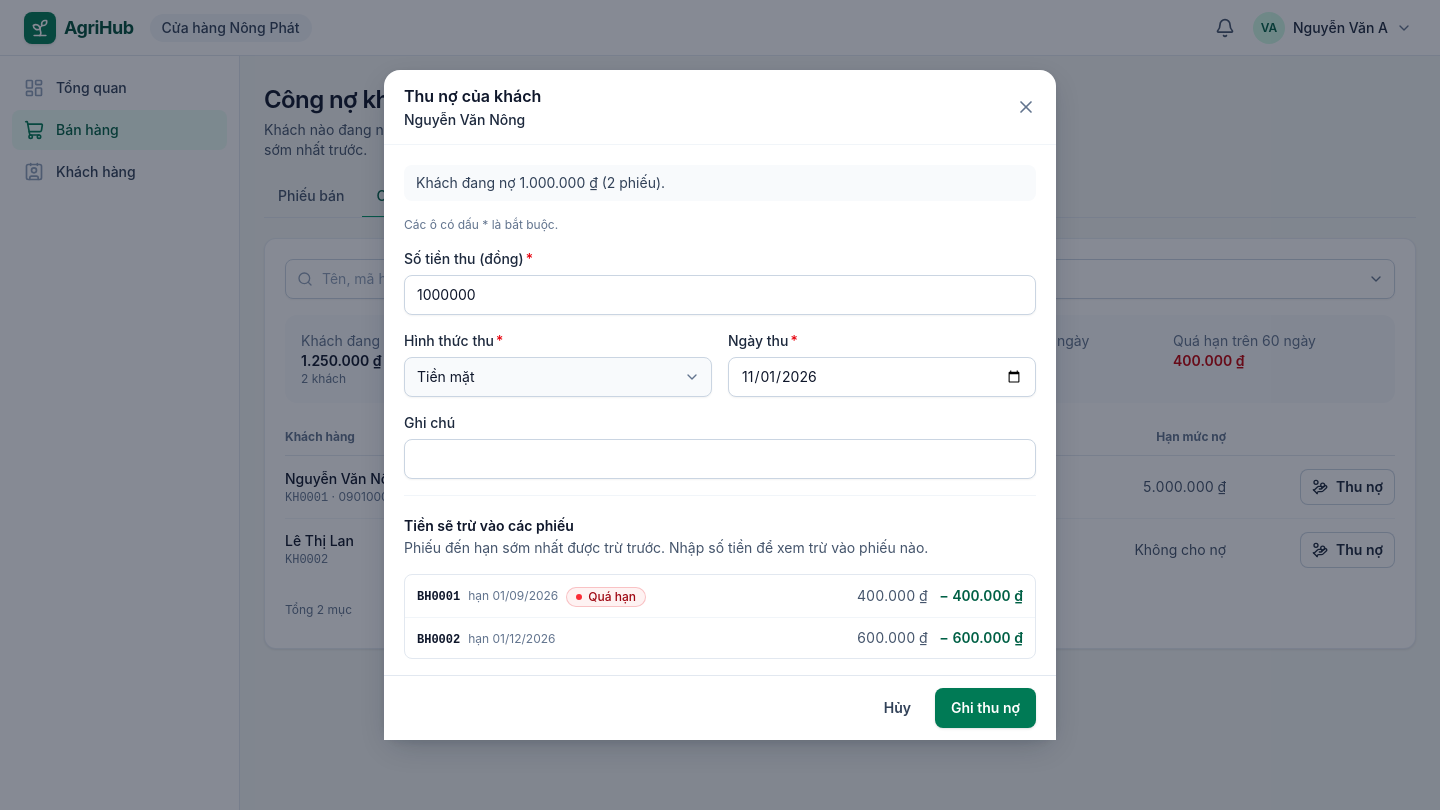
công nợ khách hàng: thu nợ › máy chủ từ chối số tiền (người khác vừa thu) thì báo ngay ở ô số tiền
Expected: the field labelled "Số tiền thu (đồng)" is shown, [404,275,1036,315]
Click the button "Ghi thu nợ" at (986, 708), box [935,688,1036,728]
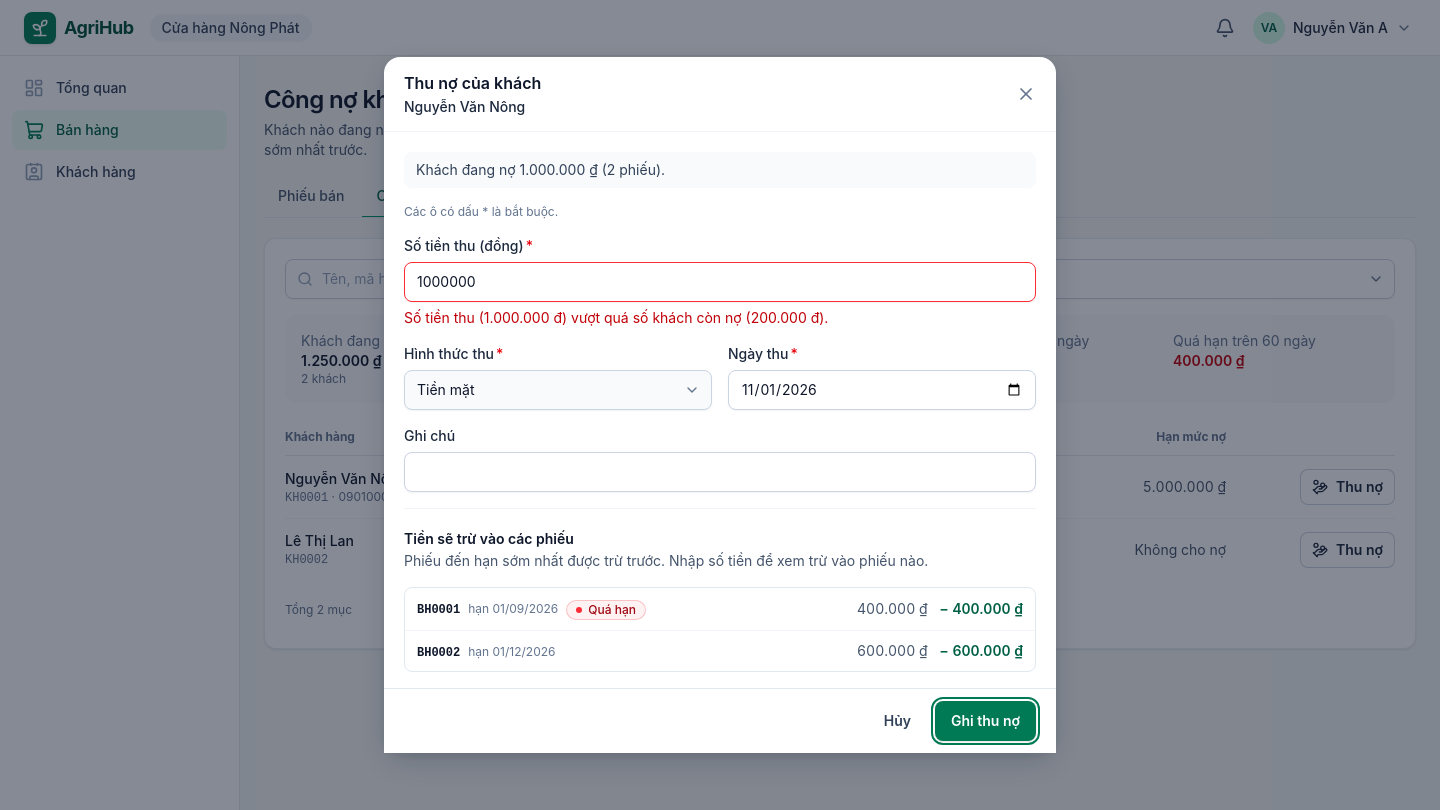
Result: the text "Số tiền thu (1.000.000 đ) vượt quá số khách còn nợ (200.000 đ)." is shown at [404,309,828,326]
